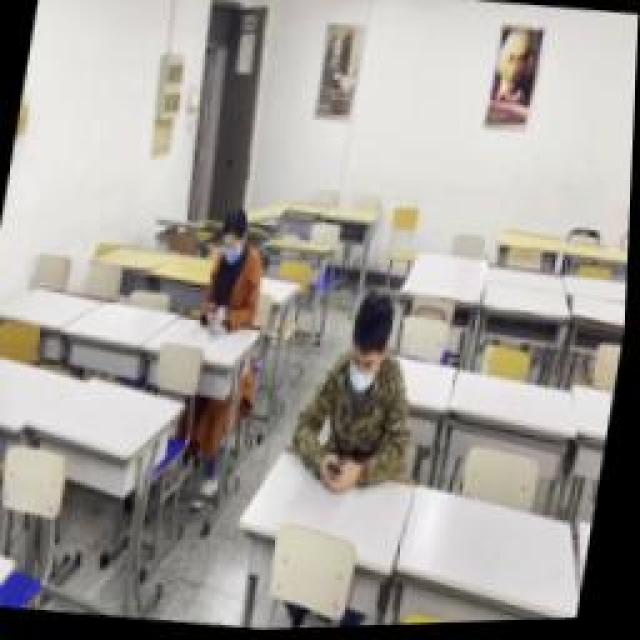phone: (287, 288, 435, 502), (200, 205, 275, 335)
